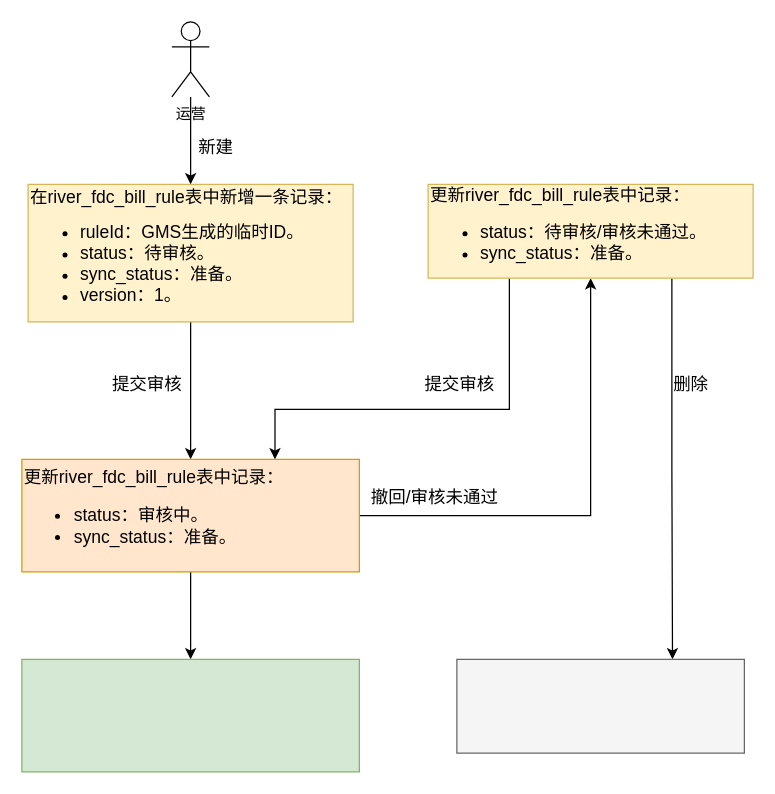
This 775x794 diagram has some shape labels left out. The shapes that lost their labels are listed below. From the top down, each one's centre as x and y in pixels, then its label:
At point 190,715: "更新river_fdc_bill_rule表中记录： status：审核通过。 sync_status：同步中。".
At point 600,705: "更新river_fdc_bill_rule表中记录： is_deleted：1。".
